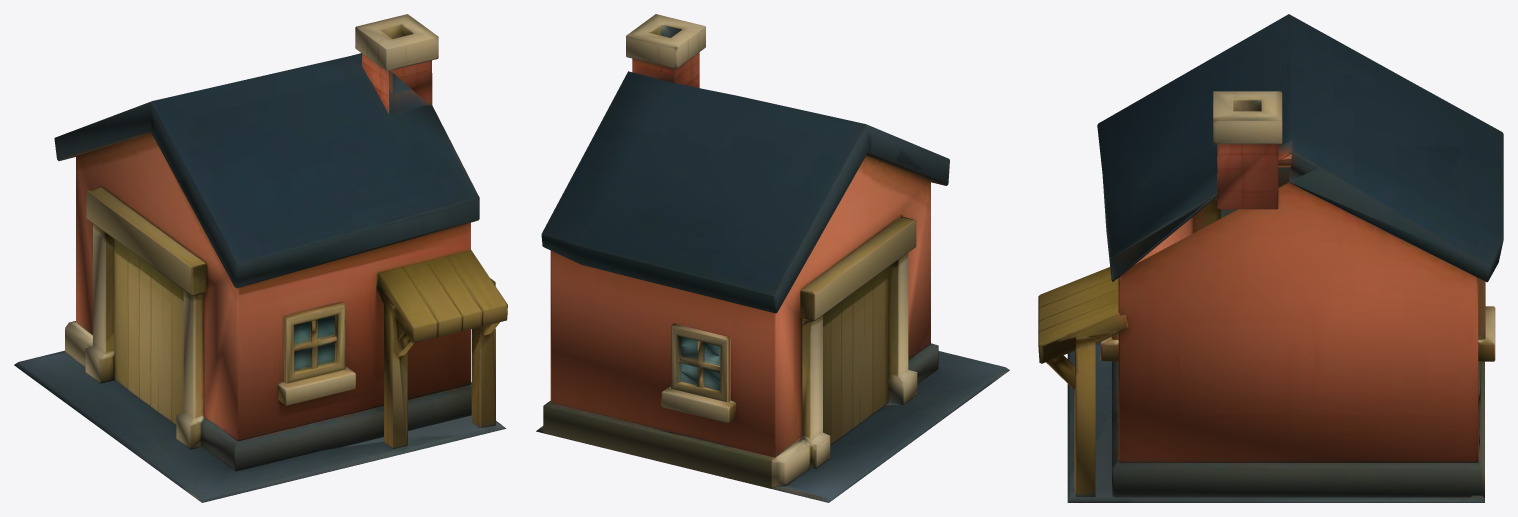
Rendered from glb-2-1024-webp.glb.
The picture shows the model from 3 angles, left to right: view 1: azimuth 30°, elevation 25°; view 2: azimuth 150°, elevation 25°; view 3: azimuth 270°, elevation 25°; orthographic projection. The views are drawn at different scales.
Visible parts, largest first — view 1: material; view 2: material; view 3: material.
Boxes of the visible parts, x1,y1,x2,y2 form: material: (14,14,507,502); material: (536,14,1009,502); material: (1038,14,1503,502).
Size of the model in its own units: 1.59 by 1.72 by 1.9.
1 material, 1 textured.
